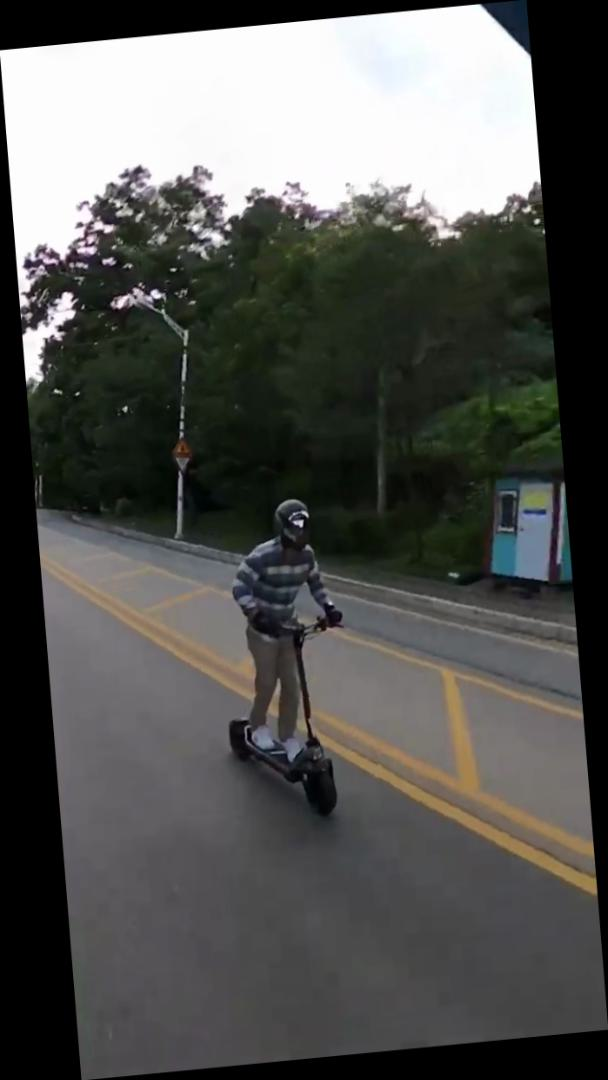helmet: (207, 488, 362, 827)
